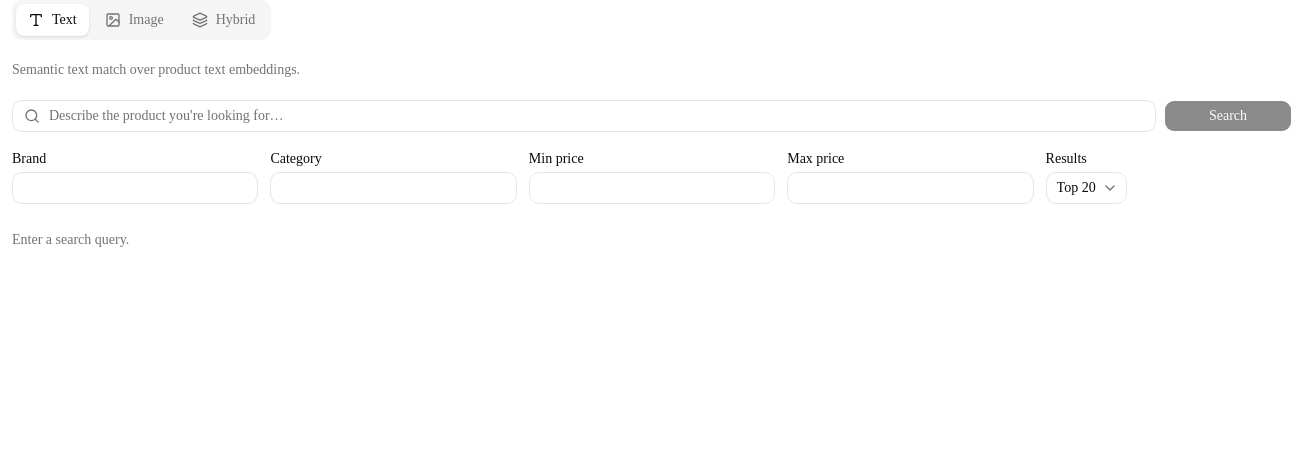
Test: SearchConsole › swaps the query box for an image picker in image mode
Expected: the field named "Search query" is shown, [12,100,1156,132]
Click the radio button labelled "Image" at (134, 20), box [93,4,176,36]
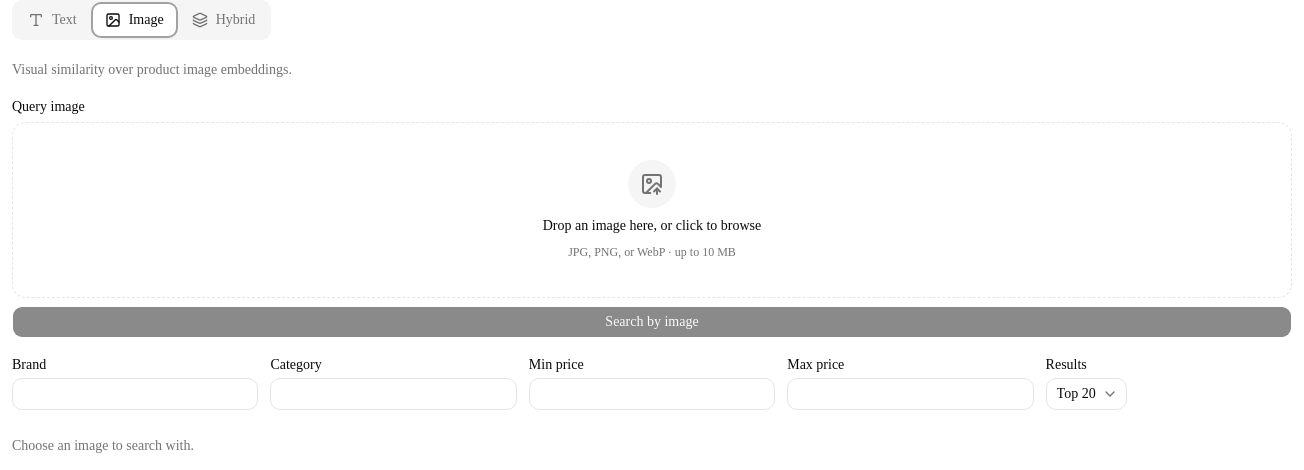
Expected: the message labelled "search query" is gone
Expected: the text "Query image" is shown, [12,99,85,114]
Expected: the text "Choose an image to search with." is shown, [12,438,194,453]
